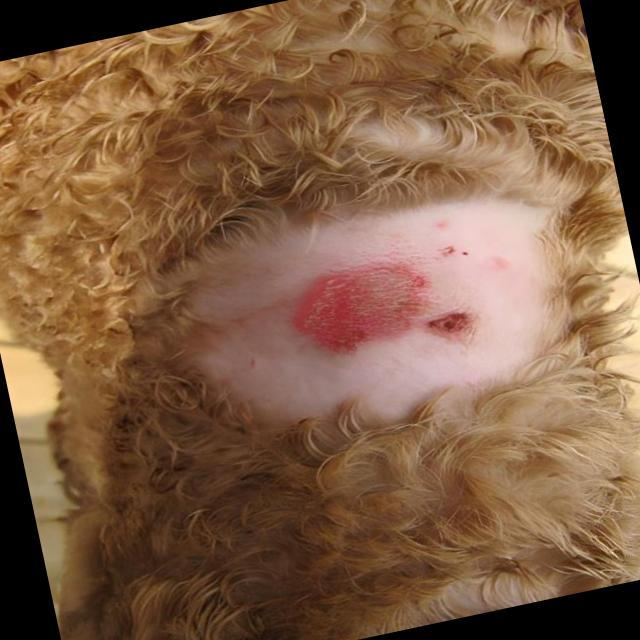allergic dermatitis: (158, 193, 550, 421)
